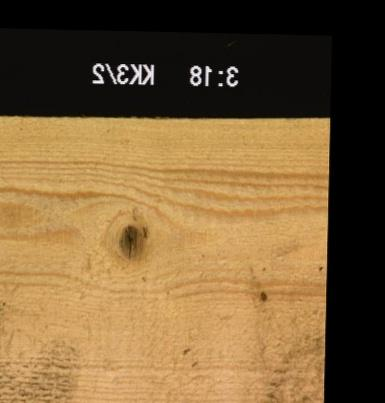small_knot: (255, 283, 271, 304)
sound_knot: (116, 222, 145, 260)
